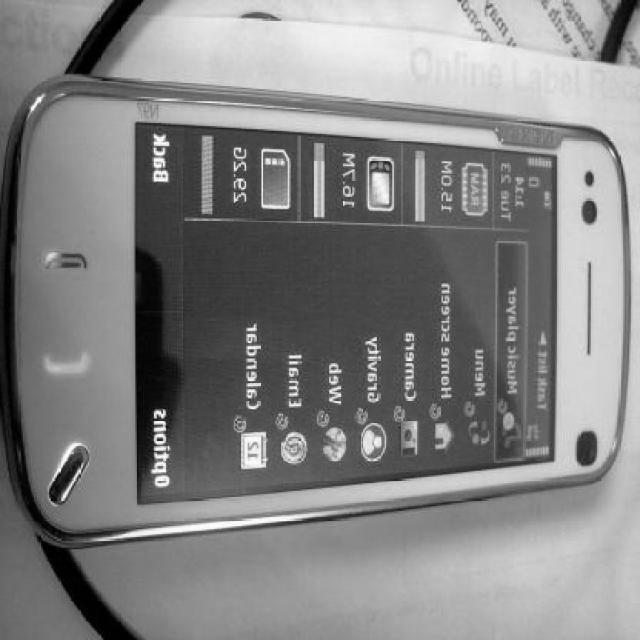fake: (0, 72, 634, 554)
